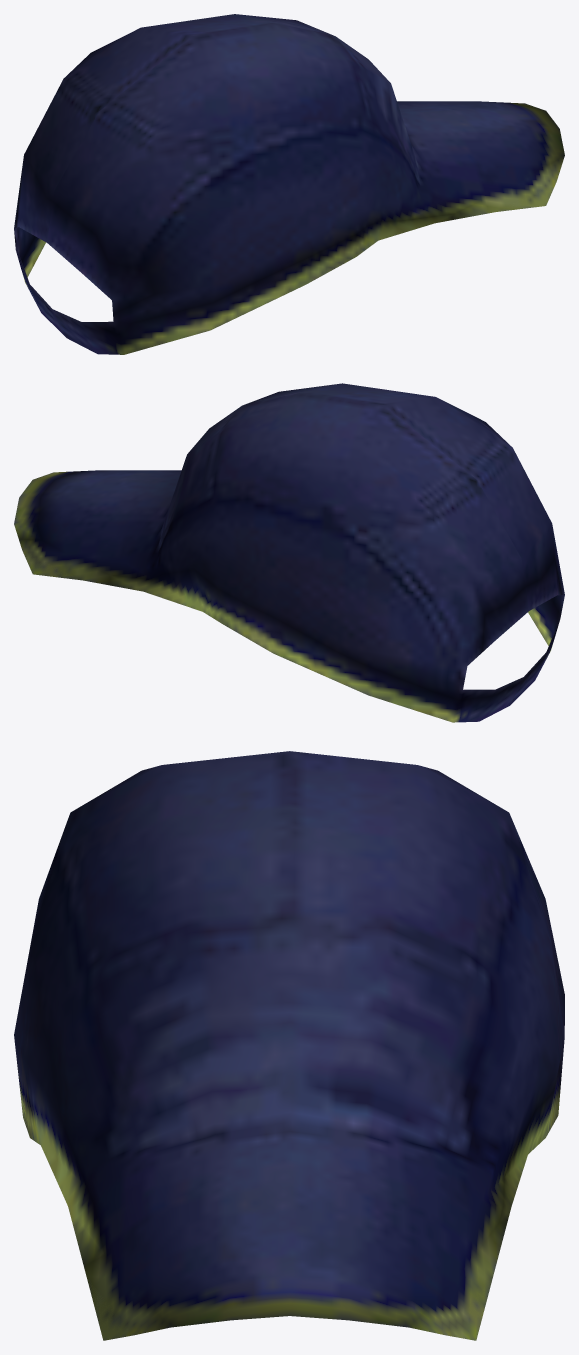
Rendered from hat_0400020.FBX.
The picture shows the model from 3 angles, top to bottom: view 1: azimuth 30°, elevation 25°; view 2: azimuth 150°, elevation 25°; view 3: azimuth 270°, elevation 25°; orthographic projection. The views are drawn at different scales.
Visible parts, largest first — view 1: hat_0400020; view 2: hat_0400020; view 3: hat_0400020.
Part boxes in pixels (x1,y1,x2,y2): hat_0400020: [14, 14, 564, 354]; hat_0400020: [14, 383, 564, 722]; hat_0400020: [14, 751, 564, 1340].
Size of the model in its own units: 40.47 by 20.99 by 22.8.
